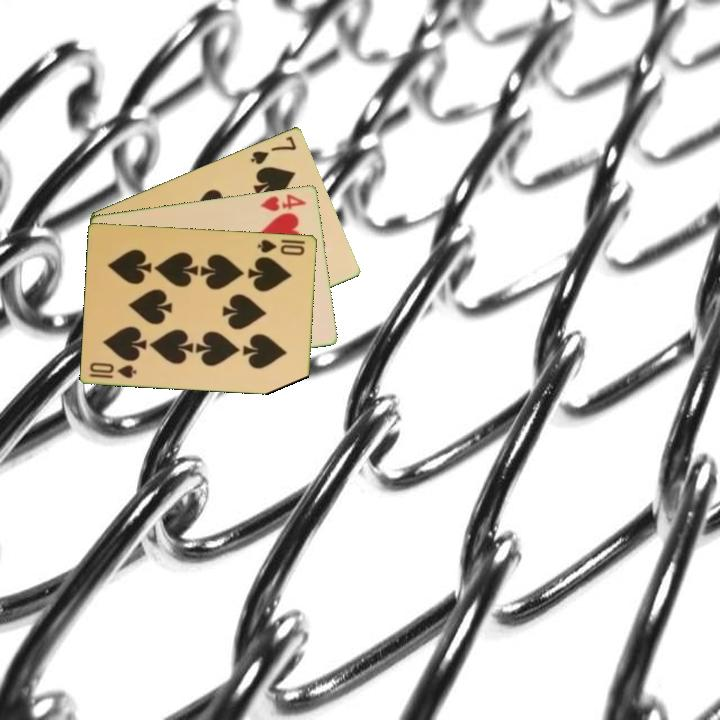10s: (86, 358, 140, 381), (254, 236, 308, 258)
4h: (257, 190, 309, 214)
7s: (247, 132, 299, 167)
